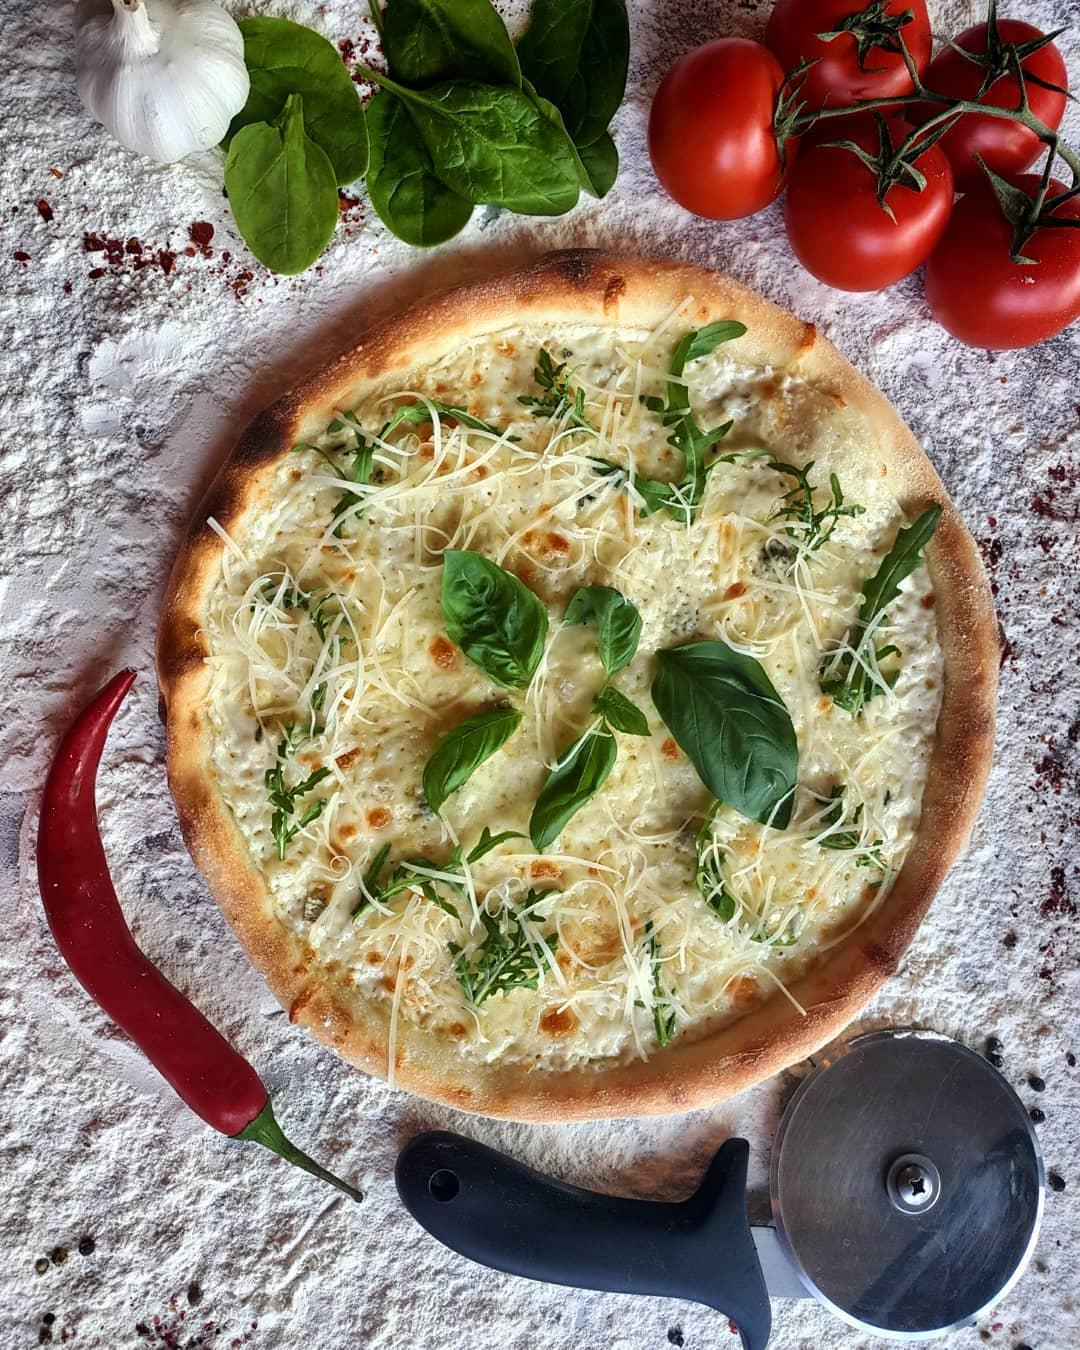Arugula: (593, 321, 747, 531), (295, 397, 527, 532), (255, 559, 348, 863), (822, 499, 946, 727), (685, 798, 801, 950), (336, 830, 530, 920), (447, 883, 568, 1012), (765, 454, 861, 576), (808, 780, 895, 875), (635, 912, 687, 1047), (527, 341, 597, 431)
Basil: (650, 636, 802, 835), (435, 544, 554, 700), (527, 706, 616, 853), (420, 703, 526, 820), (562, 577, 644, 679), (592, 687, 655, 739)
Pizza: (156, 244, 1004, 1128)
